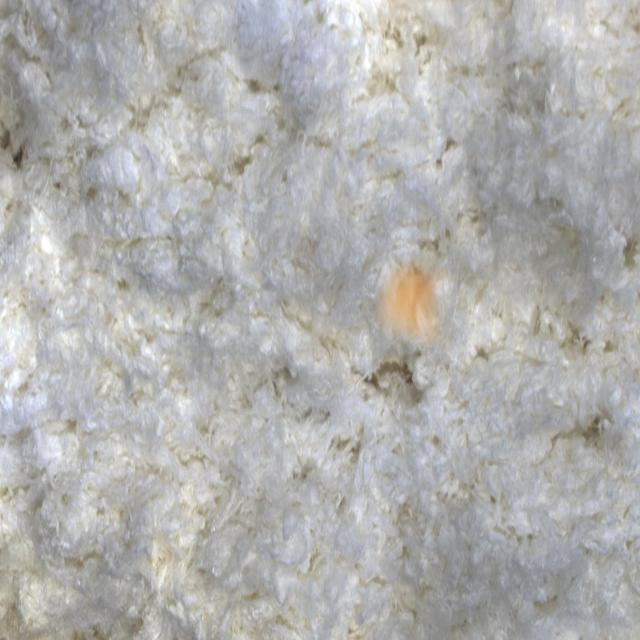dust: (373, 255, 446, 347)
